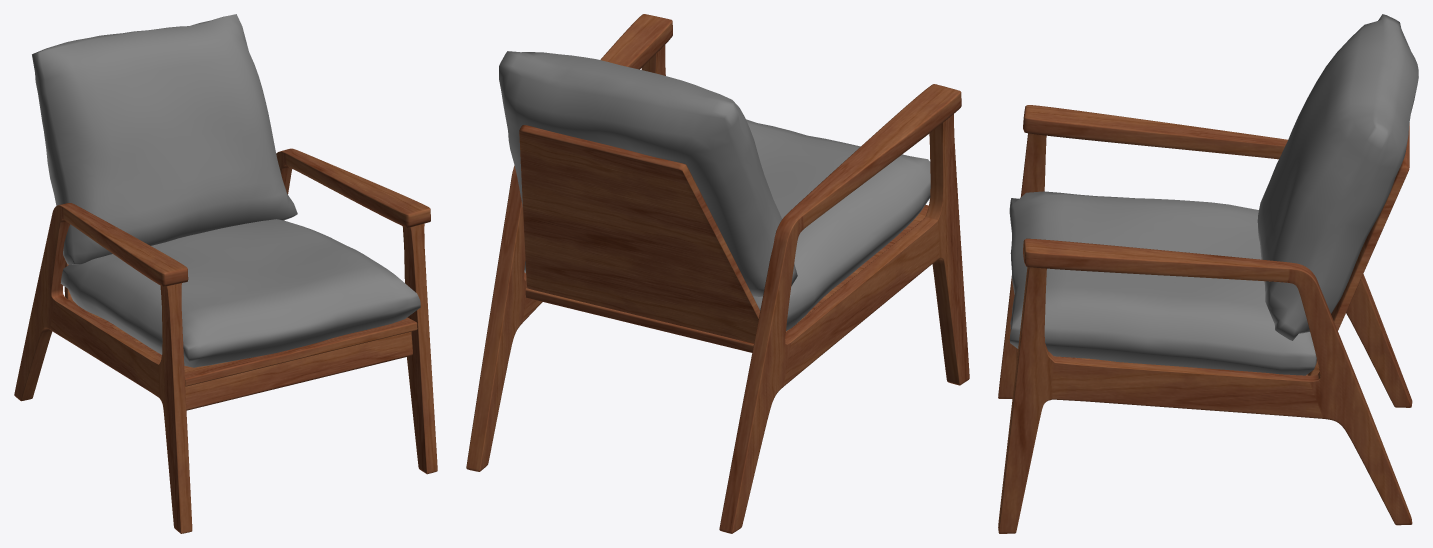
3 renders of one model, left to right at view 1: azimuth 30°, elevation 25°; view 2: azimuth 150°, elevation 25°; view 3: azimuth 270°, elevation 25°, orthographic. The views are drawn at different scales.
Parts seen in each view (by area): view 1: armchair; view 2: armchair; view 3: armchair.
Boxes of the visible parts, <box> form: armchair: <box>14,14,437,533</box>; armchair: <box>466,14,969,533</box>; armchair: <box>998,14,1418,533</box>.
Bounding box in the file's own units: 0.3333 × 0.4156 × 0.4008.
Materials: 1 (1 with a texture image).
